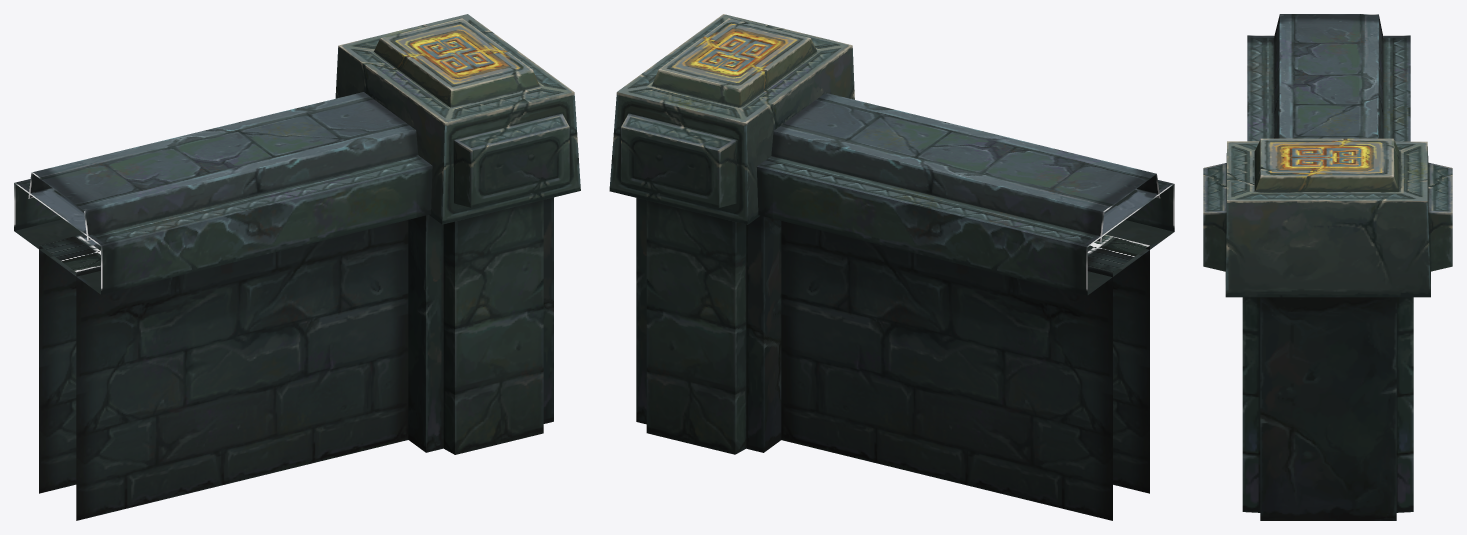
The model's file is fb_qingqs_zj_18_a.FBX.
3 renders of one model, left to right at view 1: azimuth 30°, elevation 25°; view 2: azimuth 150°, elevation 25°; view 3: azimuth 270°, elevation 25°, orthographic. The views are drawn at different scales.
Parts seen in each view (by area): view 1: fb_qingqs_zj_18; view 2: fb_qingqs_zj_18; view 3: fb_qingqs_zj_18.
Boxes of the visible parts, box(x1,y1,x2,y2) form: fb_qingqs_zj_18: box(14, 14, 580, 520); fb_qingqs_zj_18: box(609, 14, 1174, 520); fb_qingqs_zj_18: box(1203, 14, 1452, 520).
Size of the model in its own units: 858 by 624 by 420.
